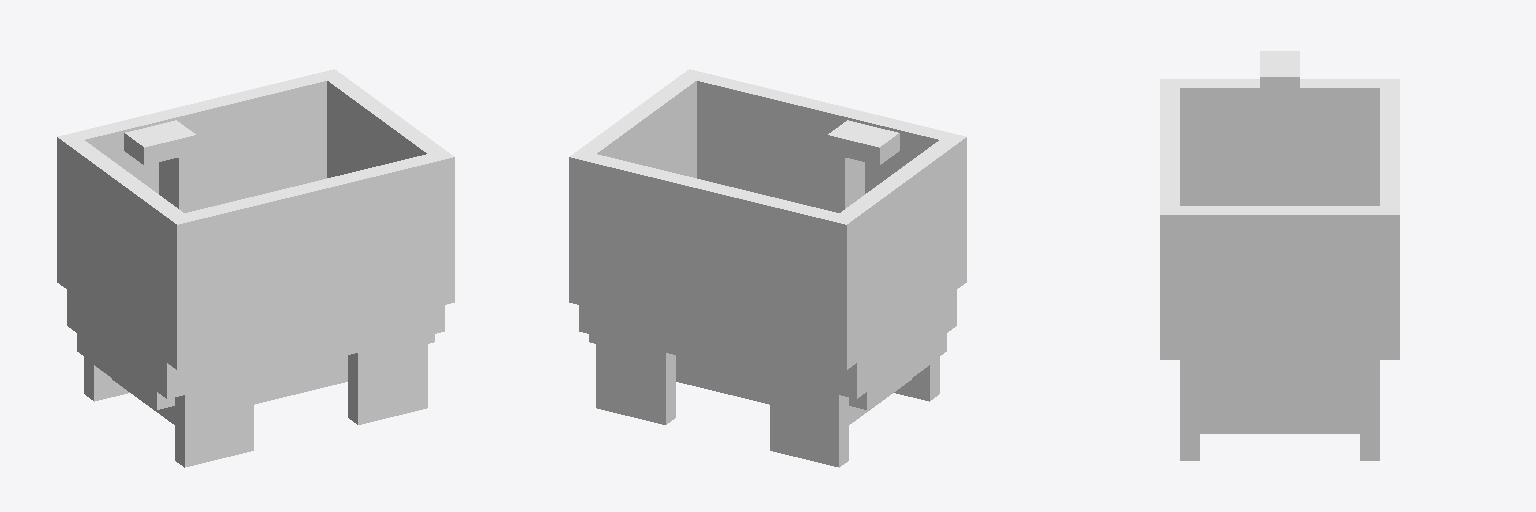
File: metal_cart.obj
3 renders of one model, left to right at view 1: azimuth 30°, elevation 25°; view 2: azimuth 150°, elevation 25°; view 3: azimuth 270°, elevation 25°, orthographic.
Size of the model in its own units: 16 by 16 by 12.